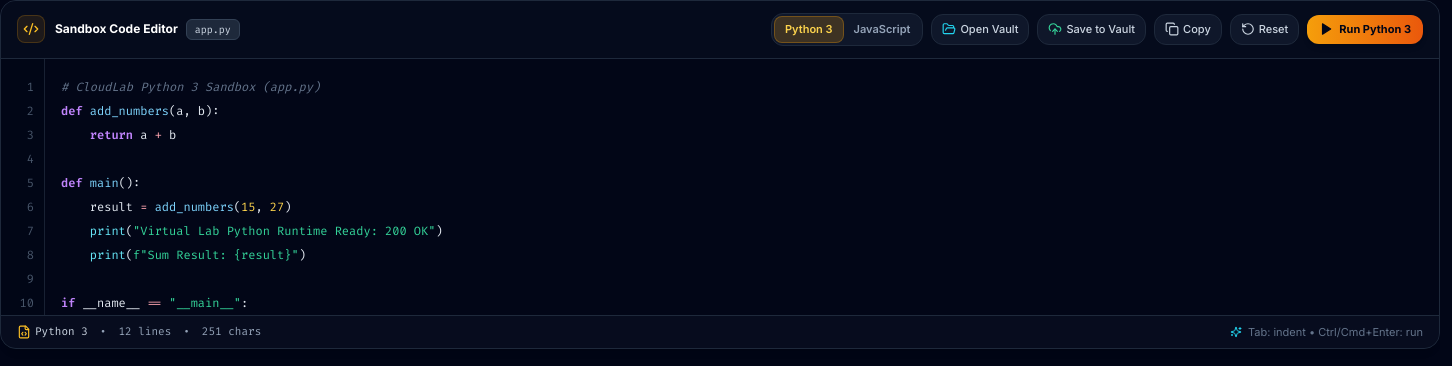
it: CodeEditor Component › resets code buffer to starter template and copies code to clipboard
Later steps or results of the test are not shown.
Replace the text in the text box named "Python 3 code editor" with "print(\"modified\")". click: (742, 186)
box: [45,58,1439,314]
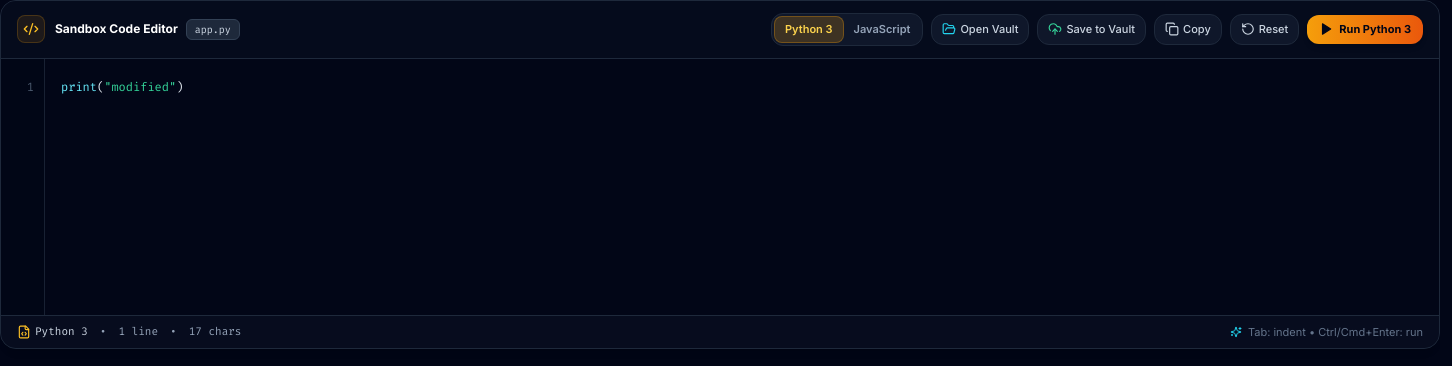
Click the button "Copy". click: (1188, 29)
box: [1154,14,1222,44]
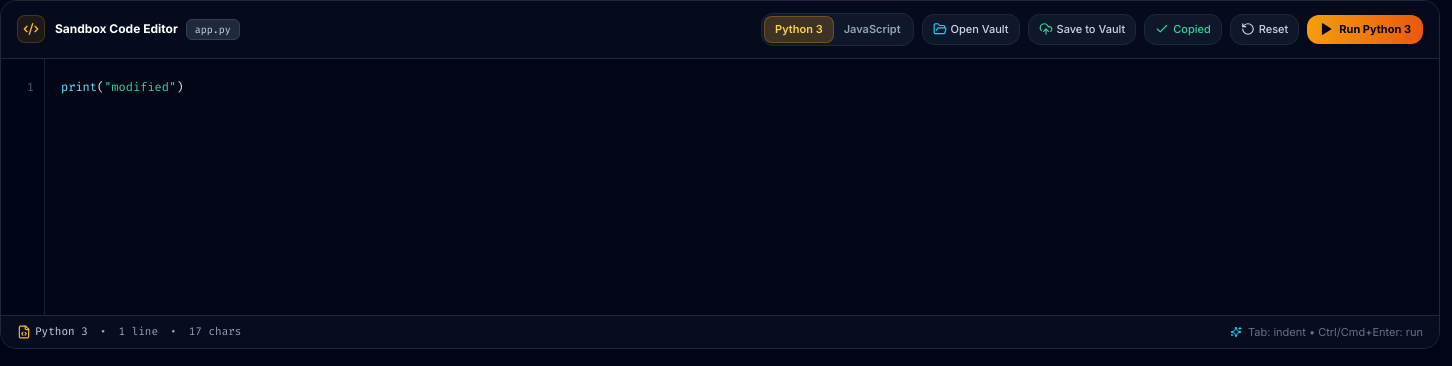
Check: the text "Copied" is shown, box [1173,21,1211,38]
